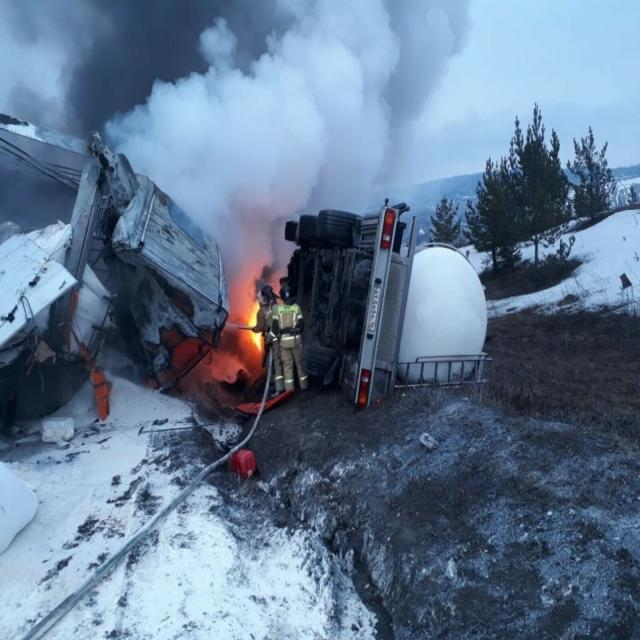Fire: (245, 298, 262, 351)
Smoke: (0, 0, 470, 319)
